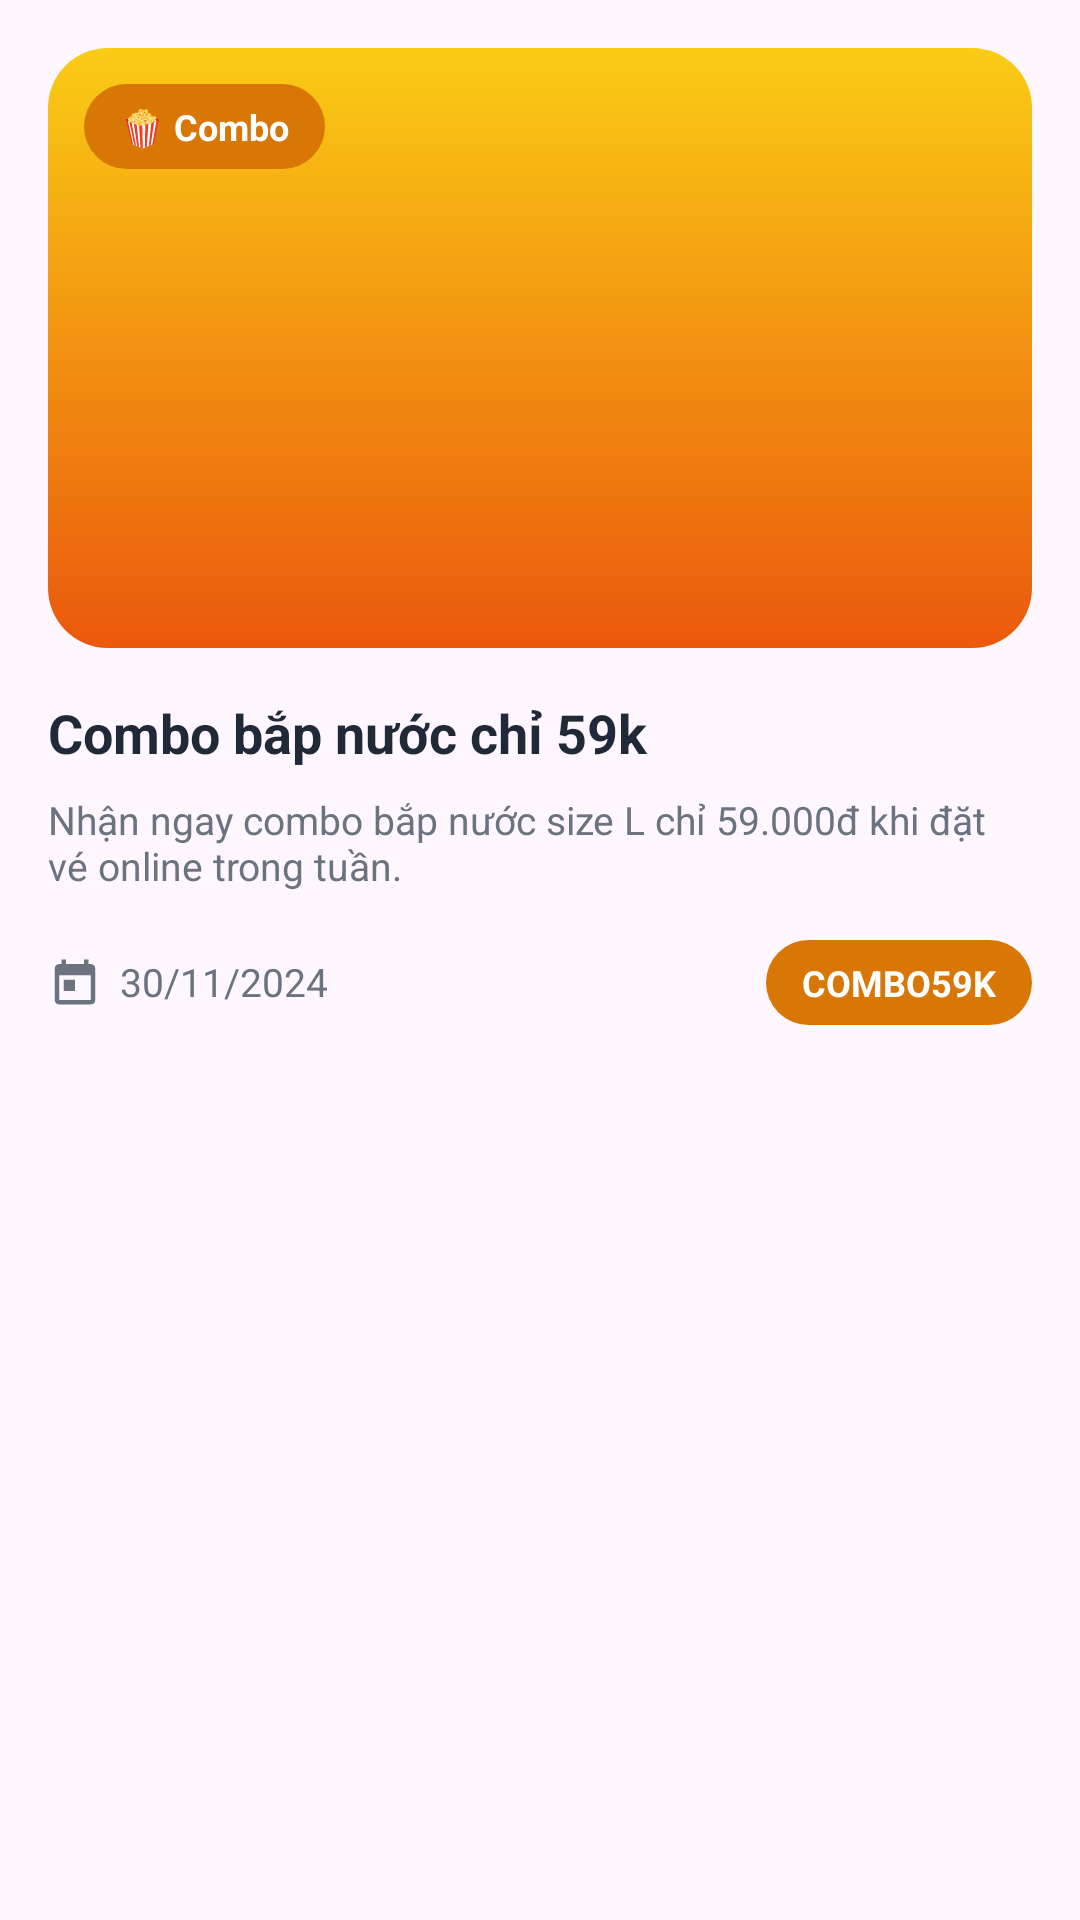

Where icons sit on this 1080x1920 app screen, as bbox(x1, y1, x2, y2):
calendar: bbox(54, 959, 96, 1005)
